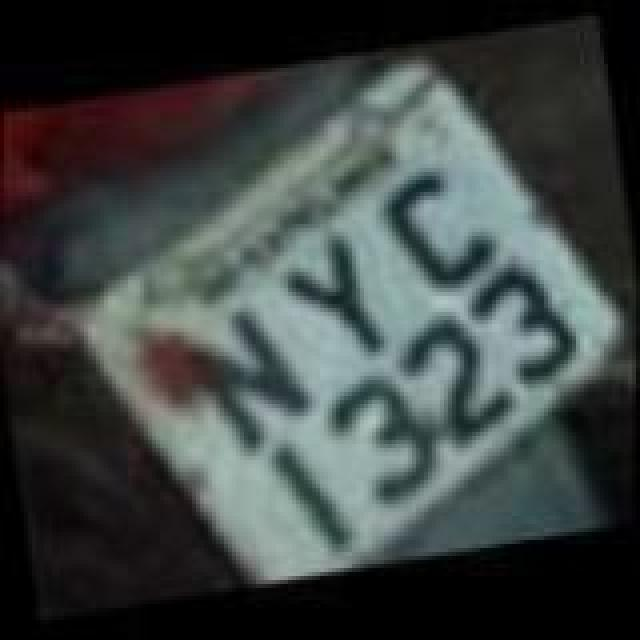1: (266, 428, 362, 560)
2: (392, 308, 520, 460)
3: (322, 364, 454, 516), (460, 250, 592, 398)
C: (370, 162, 502, 302)
N: (172, 298, 316, 462)
Y: (276, 228, 392, 368)
